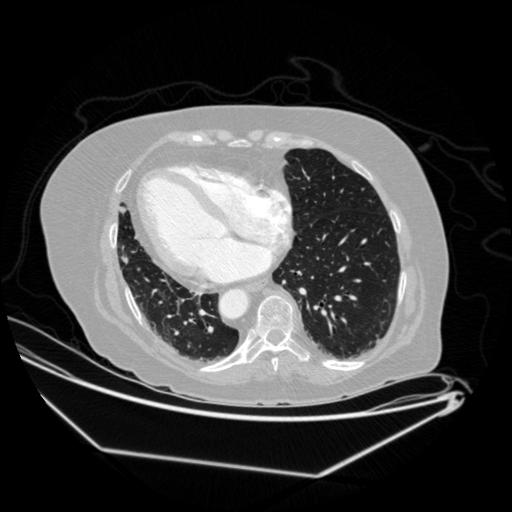nodule: (118, 204, 131, 217)
